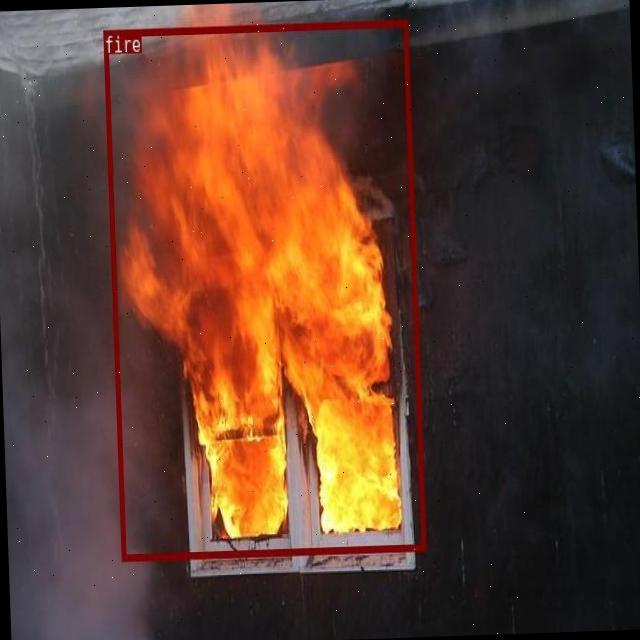fire: (102, 18, 424, 560)
